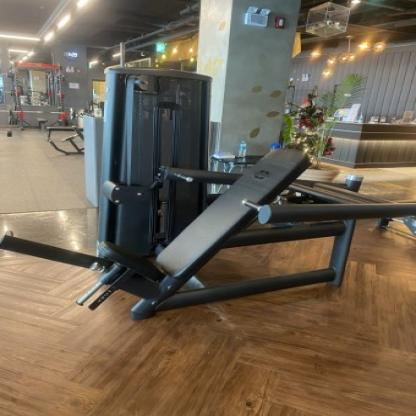shoulder press machine: (1, 45, 416, 327)
